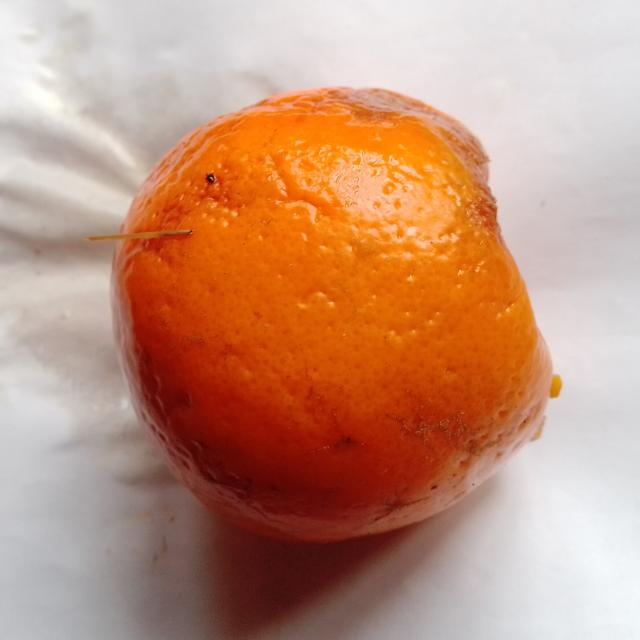orange: (114, 89, 551, 541)
